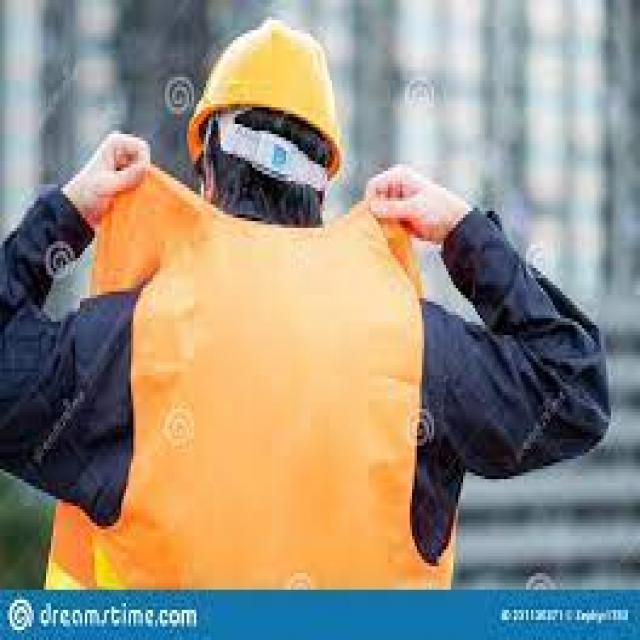Reflective-Jacket: (12, 171, 470, 593)
Safety-Helmet: (182, 16, 356, 168)
